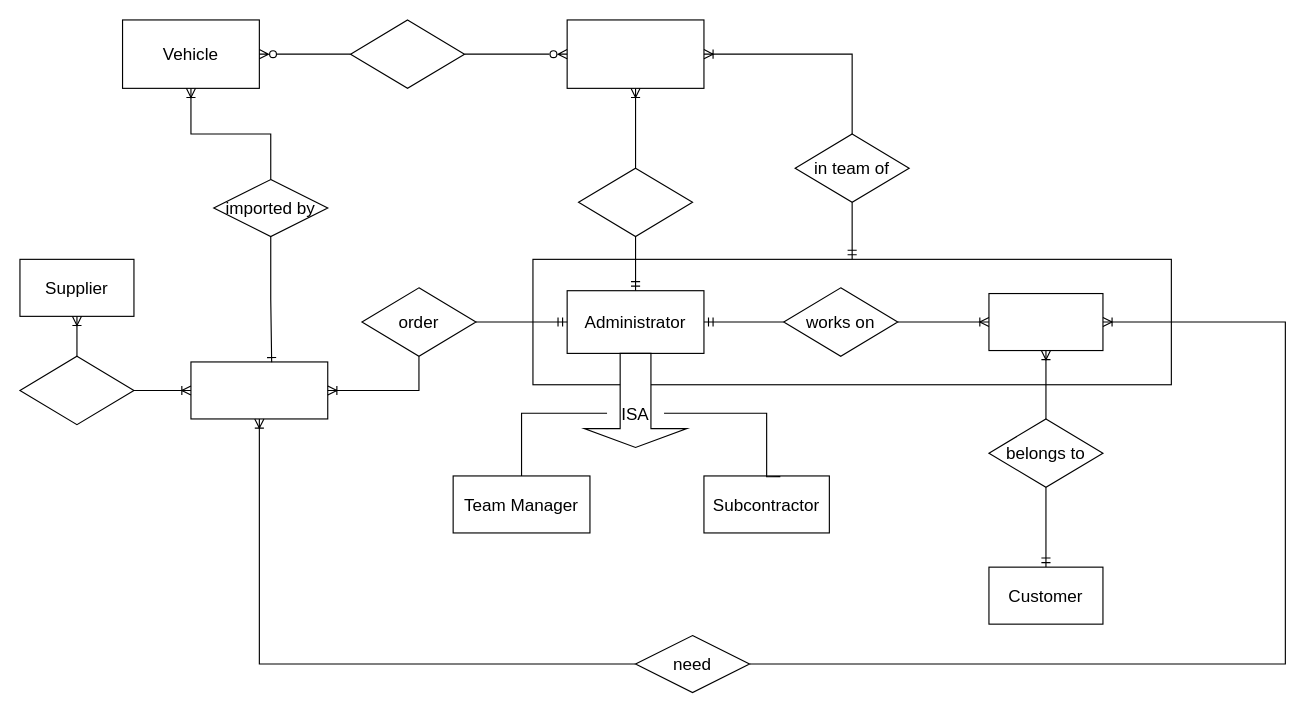
Some shapes in this 1314 by 713 pixel diagram are drawn without their labels. Here are the shapes that lost their labels. From the top down, the centre of each, then its label:
At (407,53): "can ride".
At (635,53): "Employee".
At (635,202): "has".
At (1045,321): "Project".
At (76,390): "provided by".
At (259,390): "Material".
